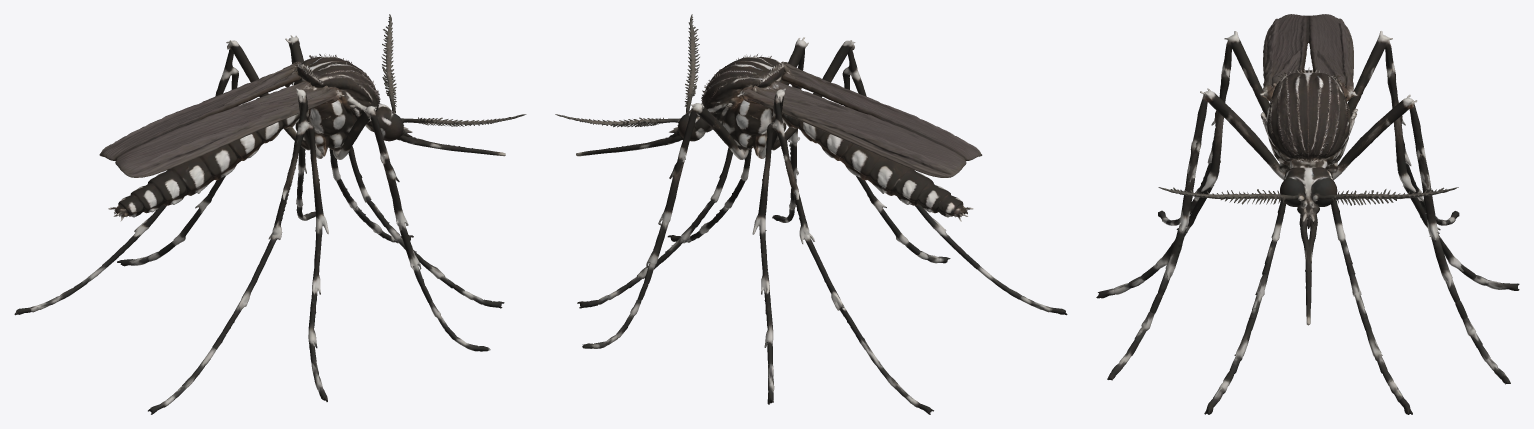
Rendered from mosquito.glb.
The picture shows the model from 3 angles, left to right: view 1: azimuth 30°, elevation 25°; view 2: azimuth 150°, elevation 25°; view 3: azimuth 270°, elevation 25°; orthographic projection. The views are drawn at different scales.
Visible parts, largest first — view 1: tripo_node_ec39ecee-1ee2-4366-92c8-de723355279a; view 2: tripo_node_ec39ecee-1ee2-4366-92c8-de723355279a; view 3: tripo_node_ec39ecee-1ee2-4366-92c8-de723355279a.
Part boxes in pixels (bbox=[...]): tripo_node_ec39ecee-1ee2-4366-92c8-de723355279a: bbox=[14, 14, 526, 414]; tripo_node_ec39ecee-1ee2-4366-92c8-de723355279a: bbox=[555, 14, 1067, 414]; tripo_node_ec39ecee-1ee2-4366-92c8-de723355279a: bbox=[1096, 14, 1519, 414].
Bounding box in the file's own units: 0.9865 × 0.5764 × 0.7764.
1 material, 1 textured.
